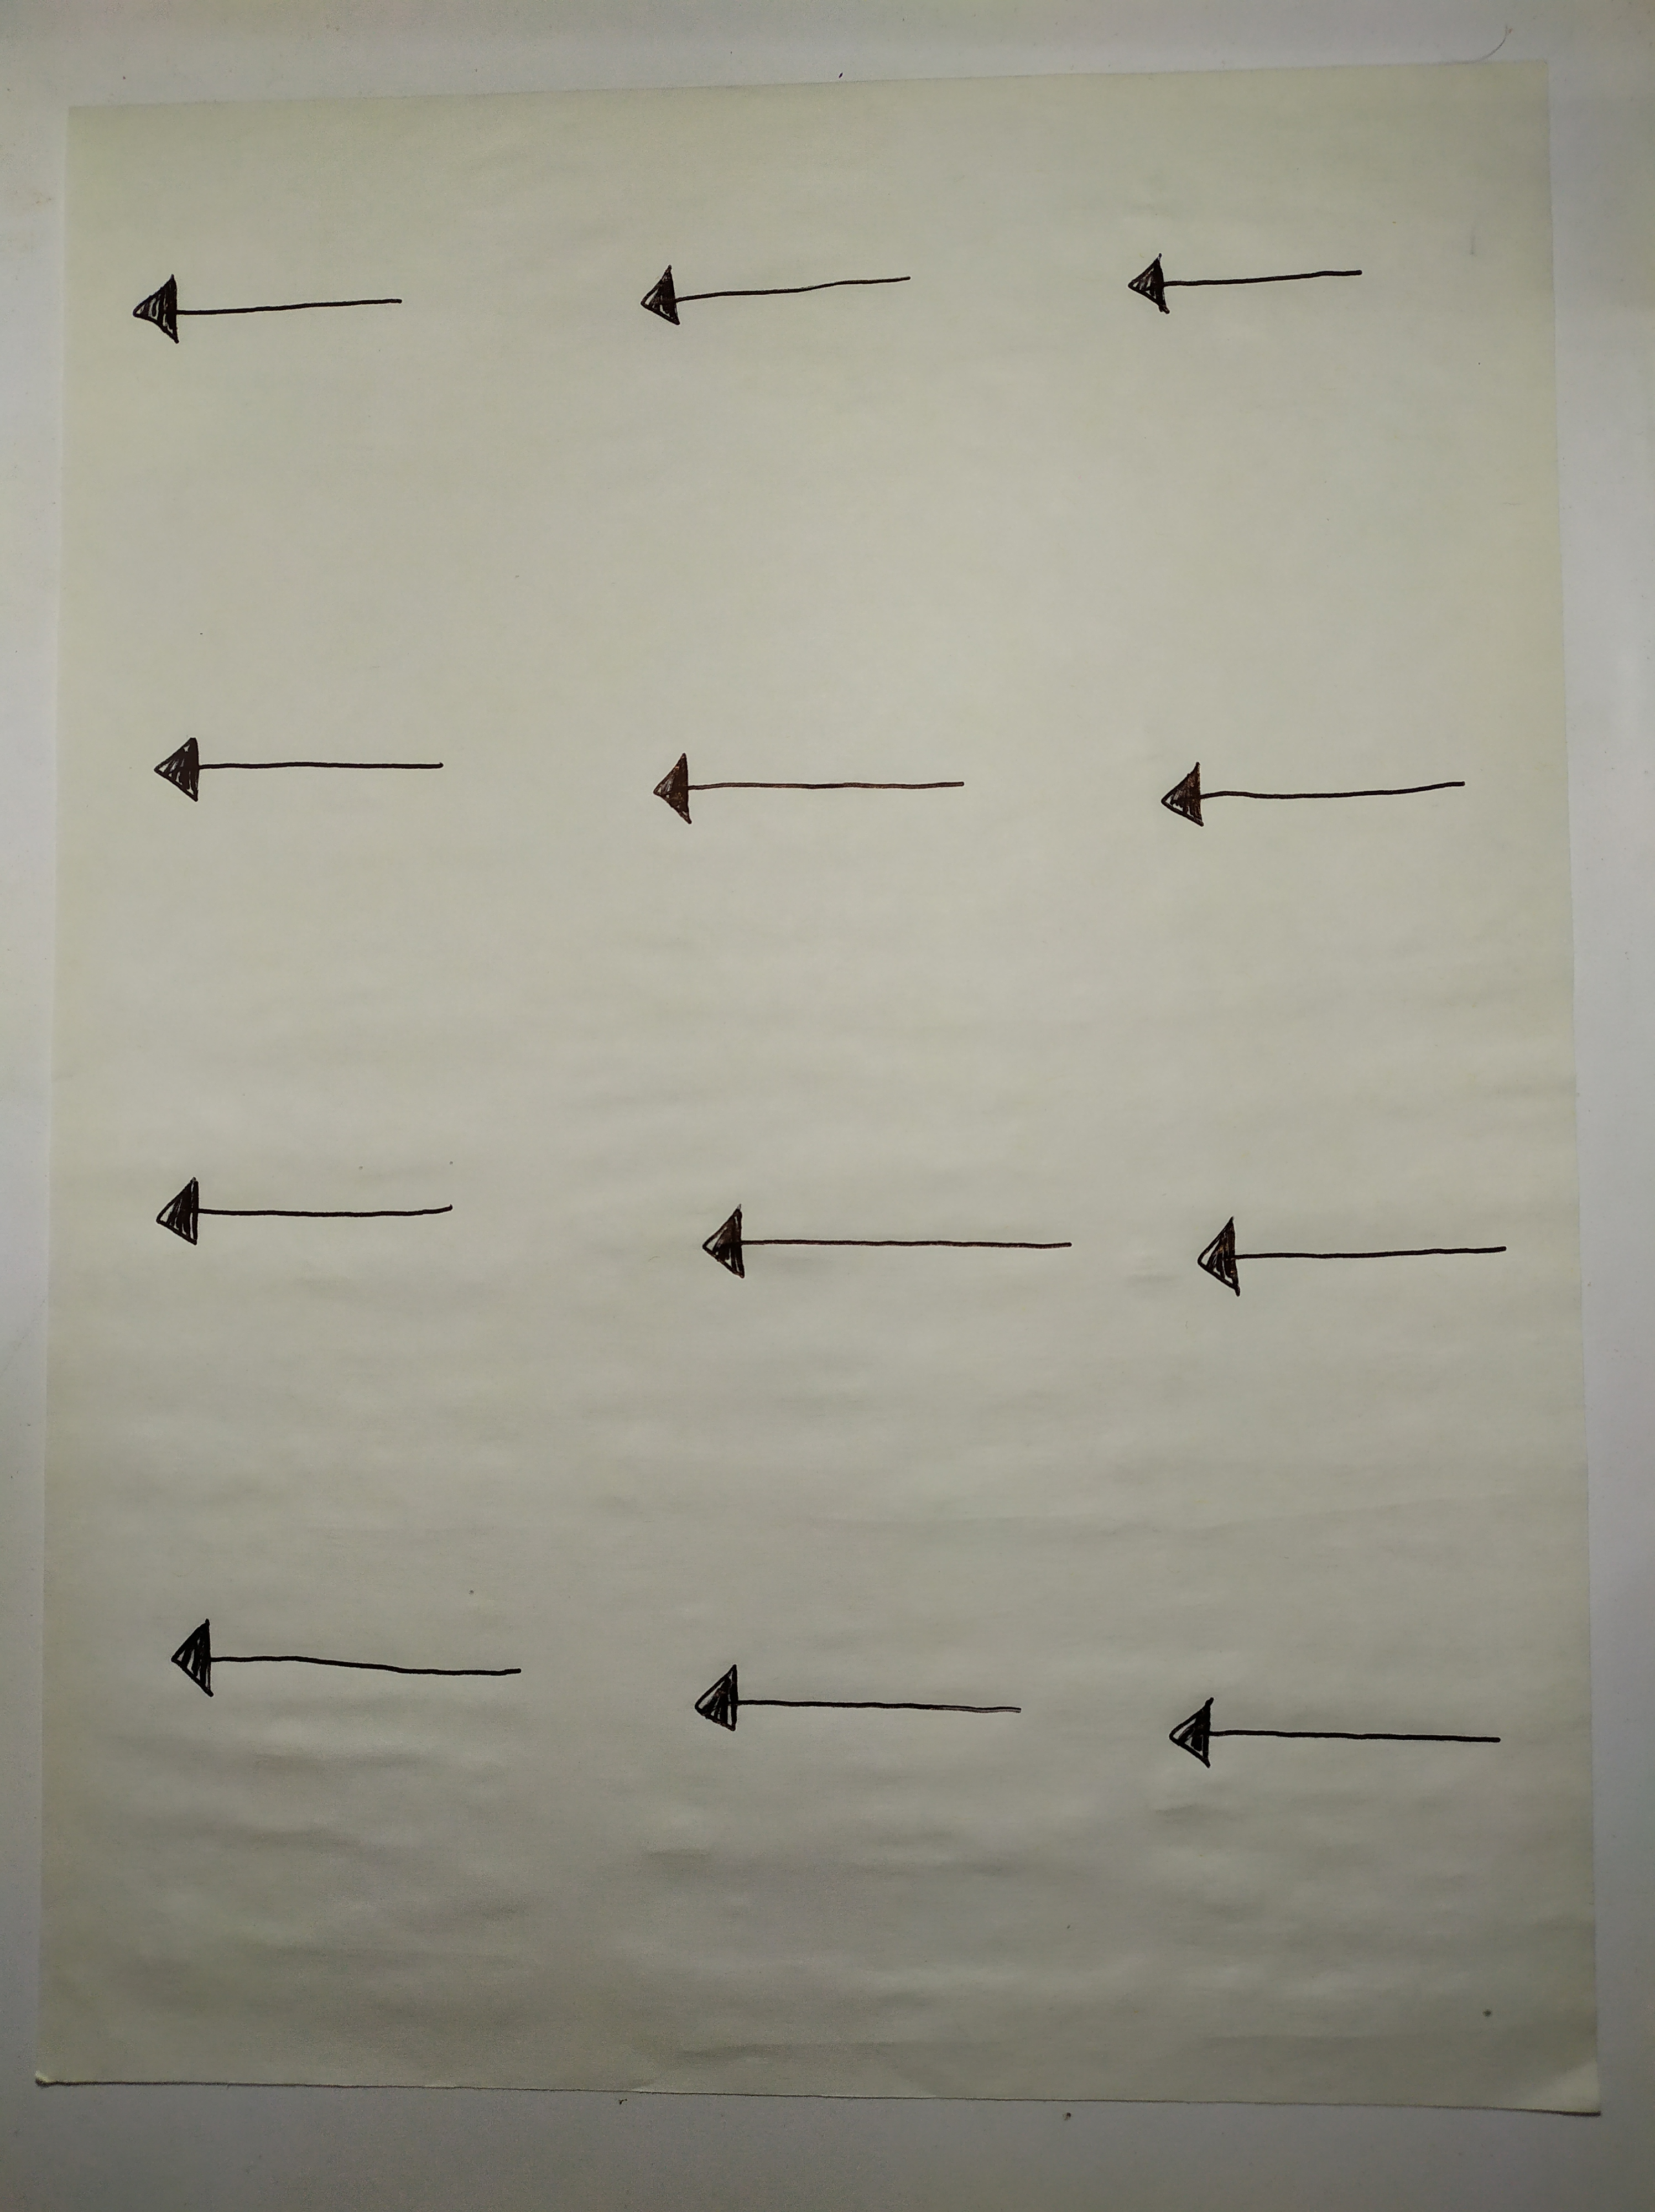arrow_line_left: (136, 1604, 558, 1746), (675, 1192, 1102, 1308), (1132, 1680, 1537, 1797), (108, 714, 509, 825), (673, 1642, 1038, 1758), (621, 733, 993, 846), (111, 1156, 475, 1268), (90, 247, 459, 354), (1123, 740, 1512, 836), (1166, 1202, 1542, 1301), (1097, 238, 1441, 334), (615, 248, 942, 332)
